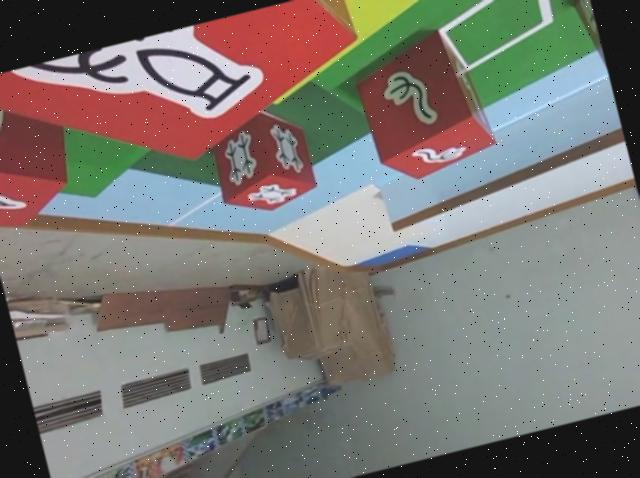R2 Real: (0, 0, 383, 216), (347, 29, 499, 193), (198, 98, 322, 225), (0, 61, 84, 237)
